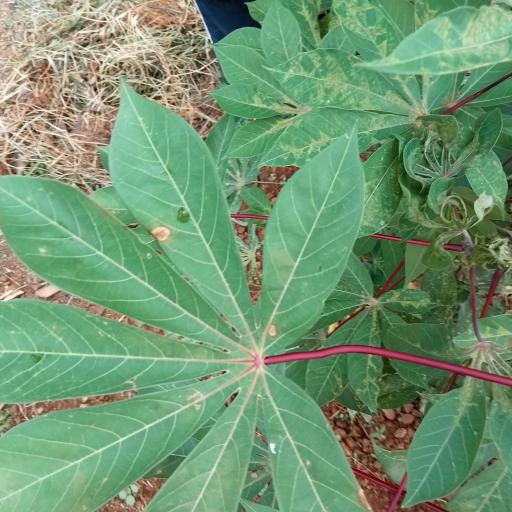Cassava_Brown_Leaf_Spot: (282, 52, 428, 123), (146, 204, 210, 267), (171, 390, 227, 422)
